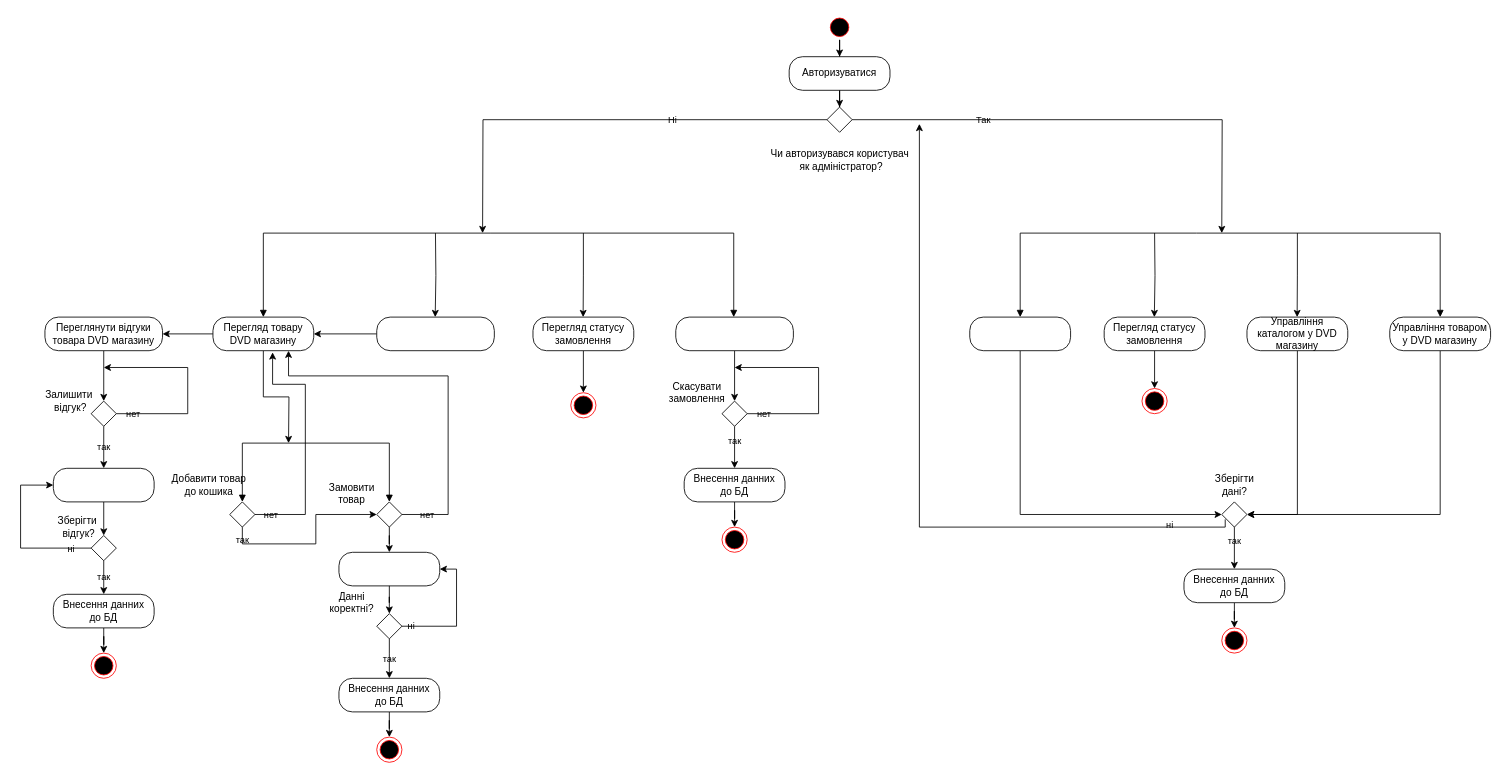
This 1505x777 diagram has some shape labels left out. Here are the shapes that lost their labels. From the top down, the centre of each, then its label:
[435,333]: Переглянути каталог DVD магазину
[734,333]: Перегляд замовлення
[1020,333]: Задання та зміна статусу замовлення
[103,484]: Додаваггя відгуку
[389,568]: Оформлання замовлення у DVD магазину
